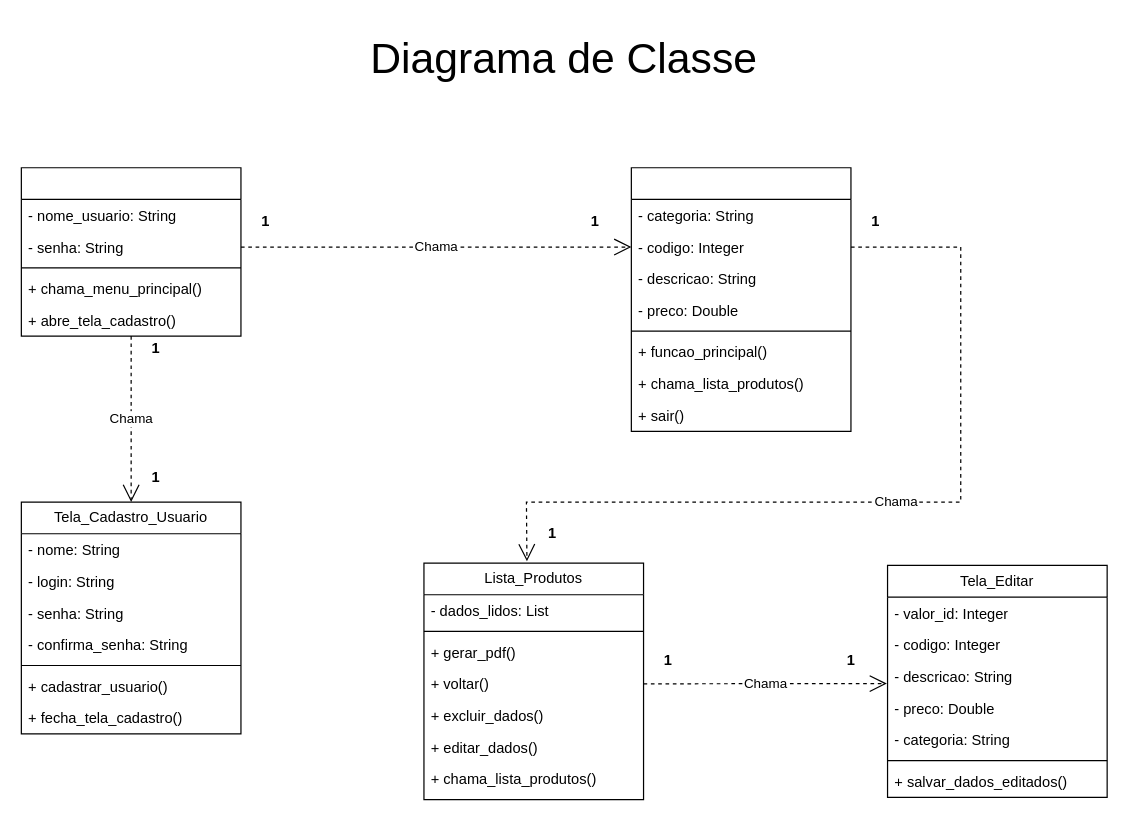
Some shapes in this 1129 by 824 pixel diagram are drawn without their labels. The box of each missing label's shape, as (x1, y1, x2, y2) in pixels:
Menu_Principal: (630, 167, 851, 431)
Tela_Login: (20, 167, 241, 336)
